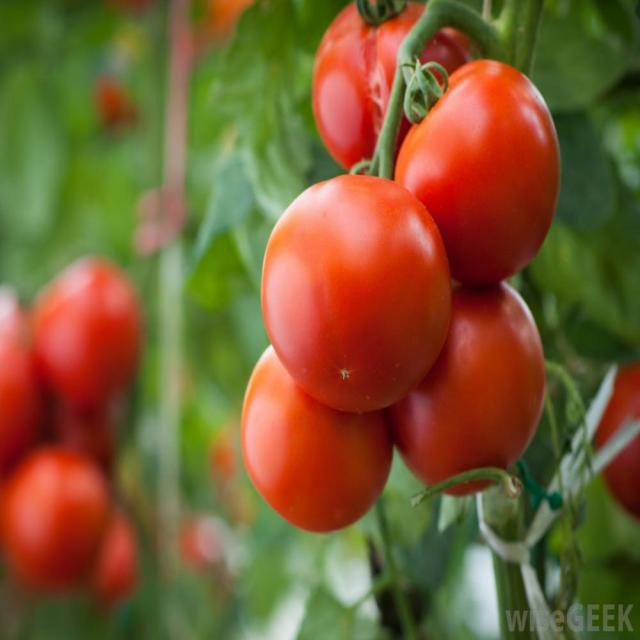tomato: (260, 174, 459, 410), (407, 66, 558, 268)
